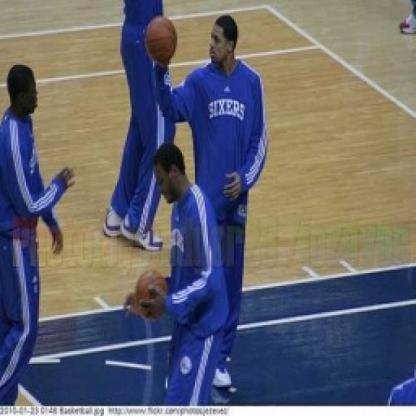basketball: (136, 267, 167, 319), (145, 14, 177, 64)
